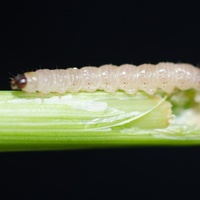insect: (11, 63, 199, 94)
